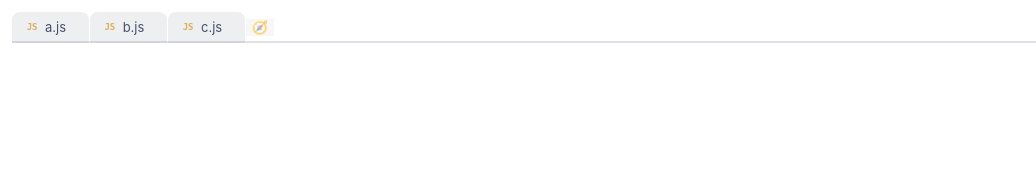
Test case: the right-click menu — a verb that would do nothing is HIDDEN, not greyed › first of three: the full menu, with the right count to the right
Step 1. Right-click the button "JS a.js" → (42, 27), box [13, 13, 70, 41]
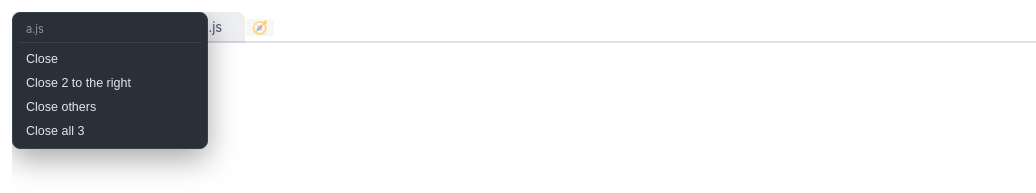
Expected: the button "Close 2 to the right" is shown, [18, 71, 202, 95]
Expected: the button "Close others" is shown, [18, 95, 202, 119]
Expected: the button "Close all 3" is shown, [18, 119, 202, 143]
